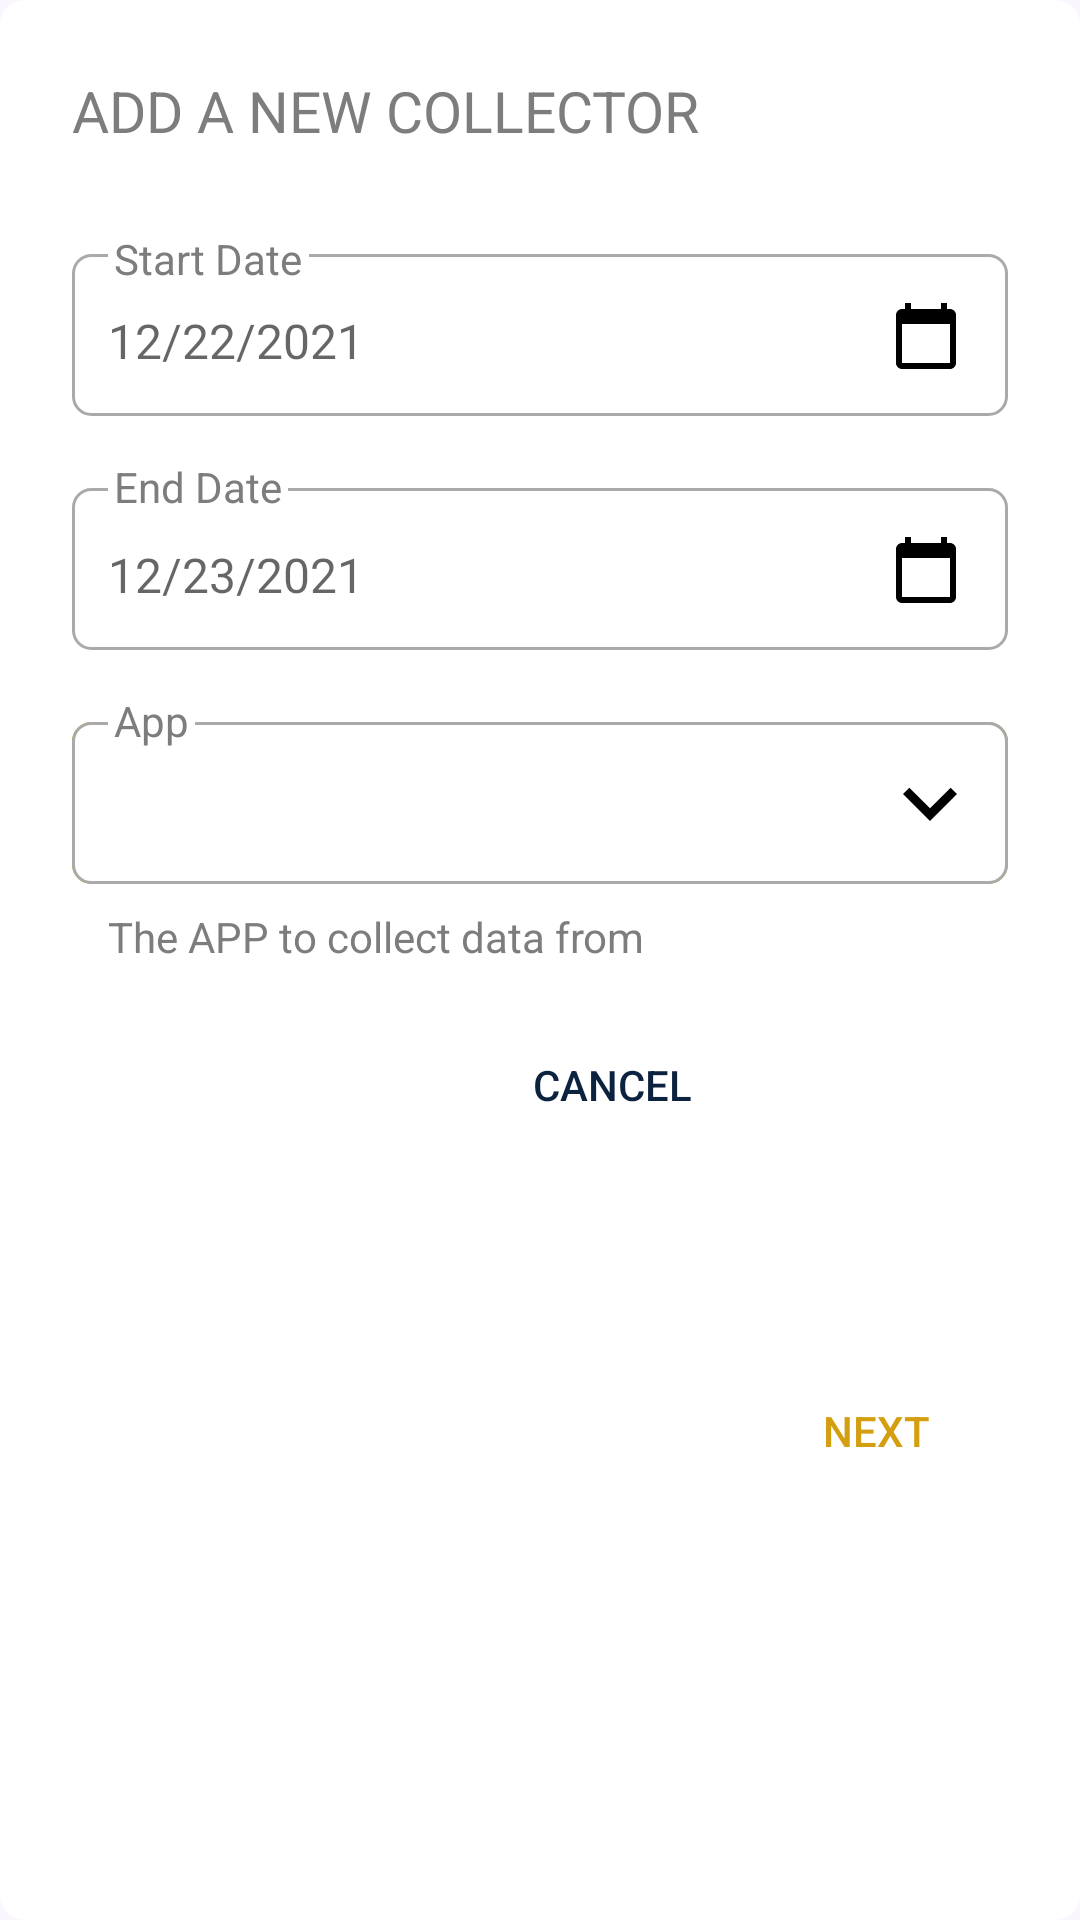

Icons on this 1080x1920 Android screen, each with its box as [x1, y1, x2, y2]:
calendar today: [896, 303, 956, 369], [896, 537, 956, 603]
